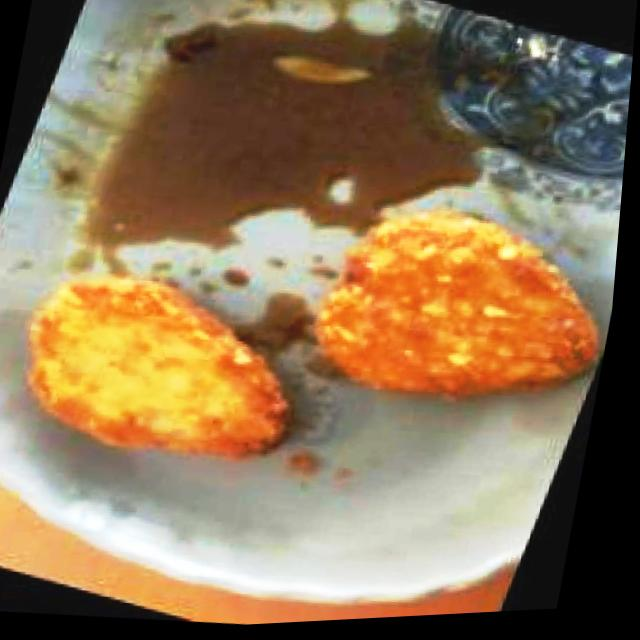Hashbrown: (5, 256, 321, 478), (307, 197, 621, 420)
